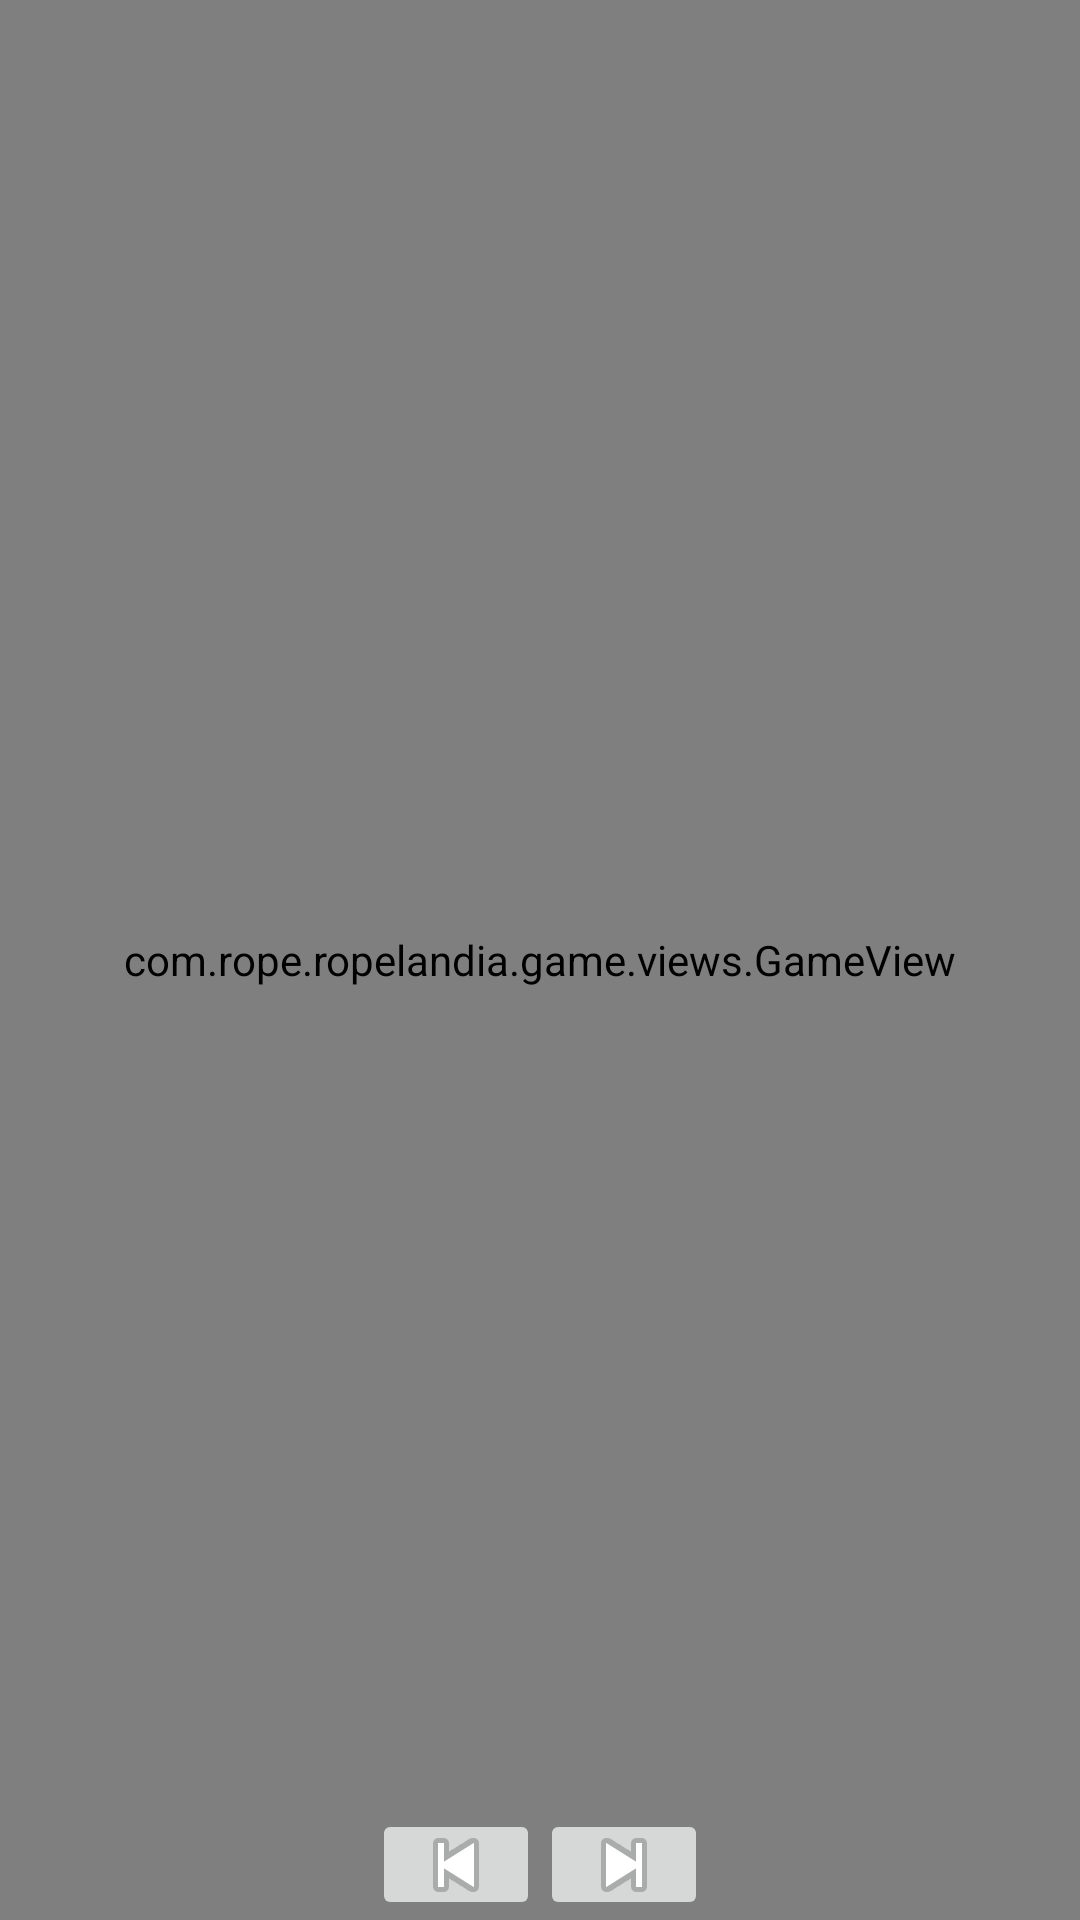

Named icons in this screenshot (1080*1920) and their bounding boxes, (x1, y1, x2, y2):
next: (552, 1827, 696, 1902)
previous: (384, 1827, 528, 1902)
